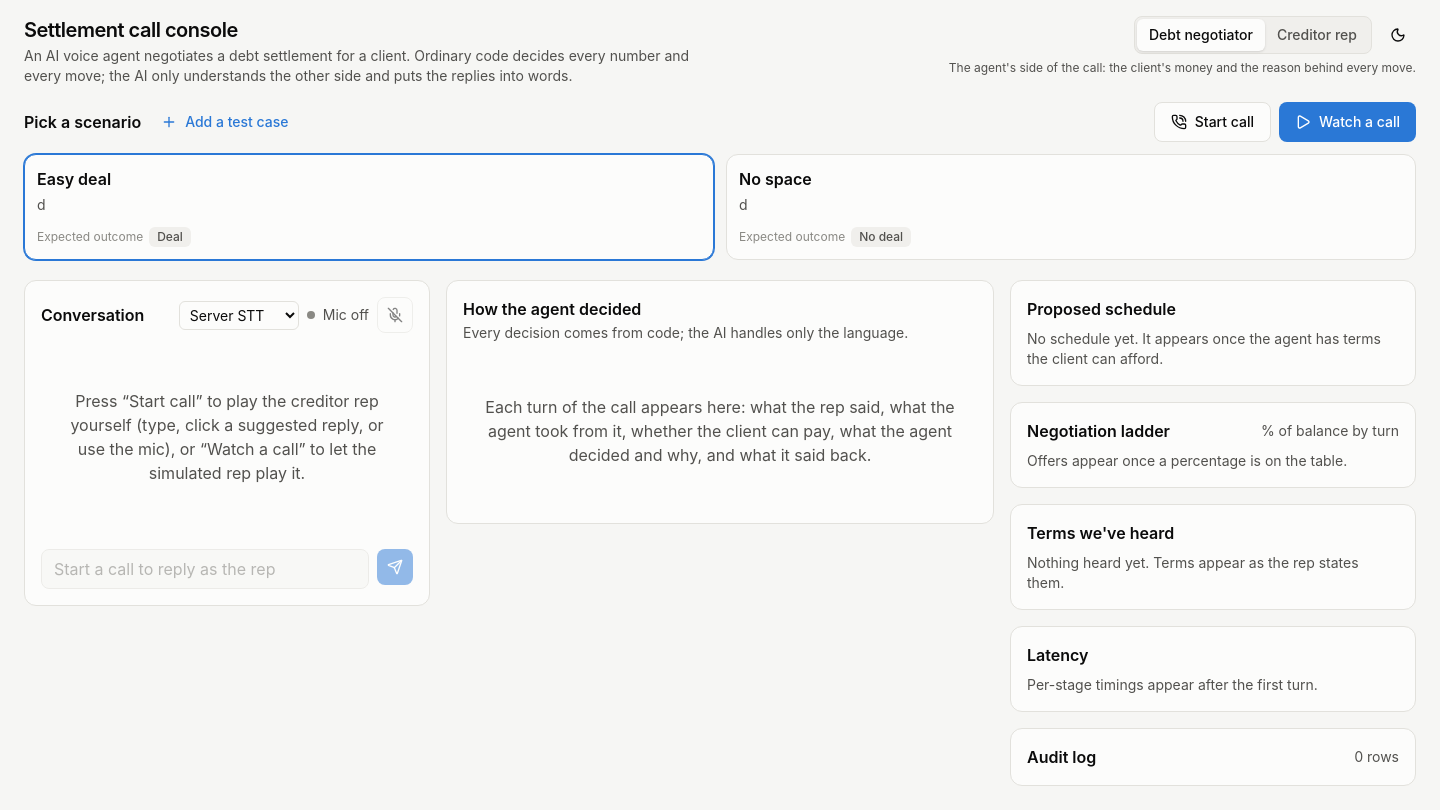
Test: LiveApp custom test cases › shows the rep's account for a custom case from the rep-safe preview
This screenshot has width=1440, height=810.
Expected: the button "No space d Expected outcome No deal" is shown, [726,154,1416,260]
What coordinates should you click on to do the following:
click the button "Add a test case"
I would click on:
 (225, 122)
Its box is [149,106,300,138].
(page scrolled)
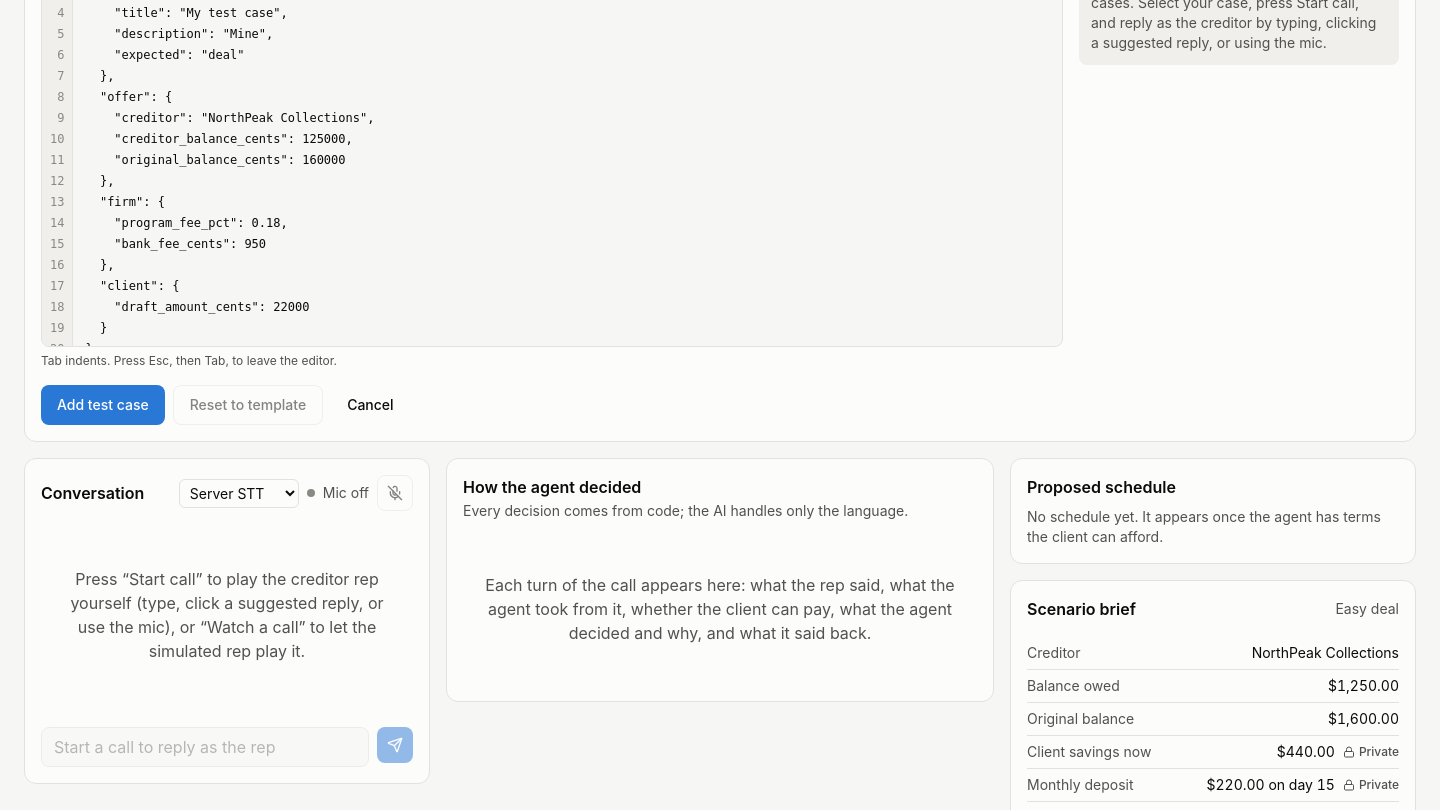
What coordinates should you click on to do the following:
click the button "Add test case"
I would click on:
 (103, 405)
Its box is [41,385,165,425].
(page scrolled)
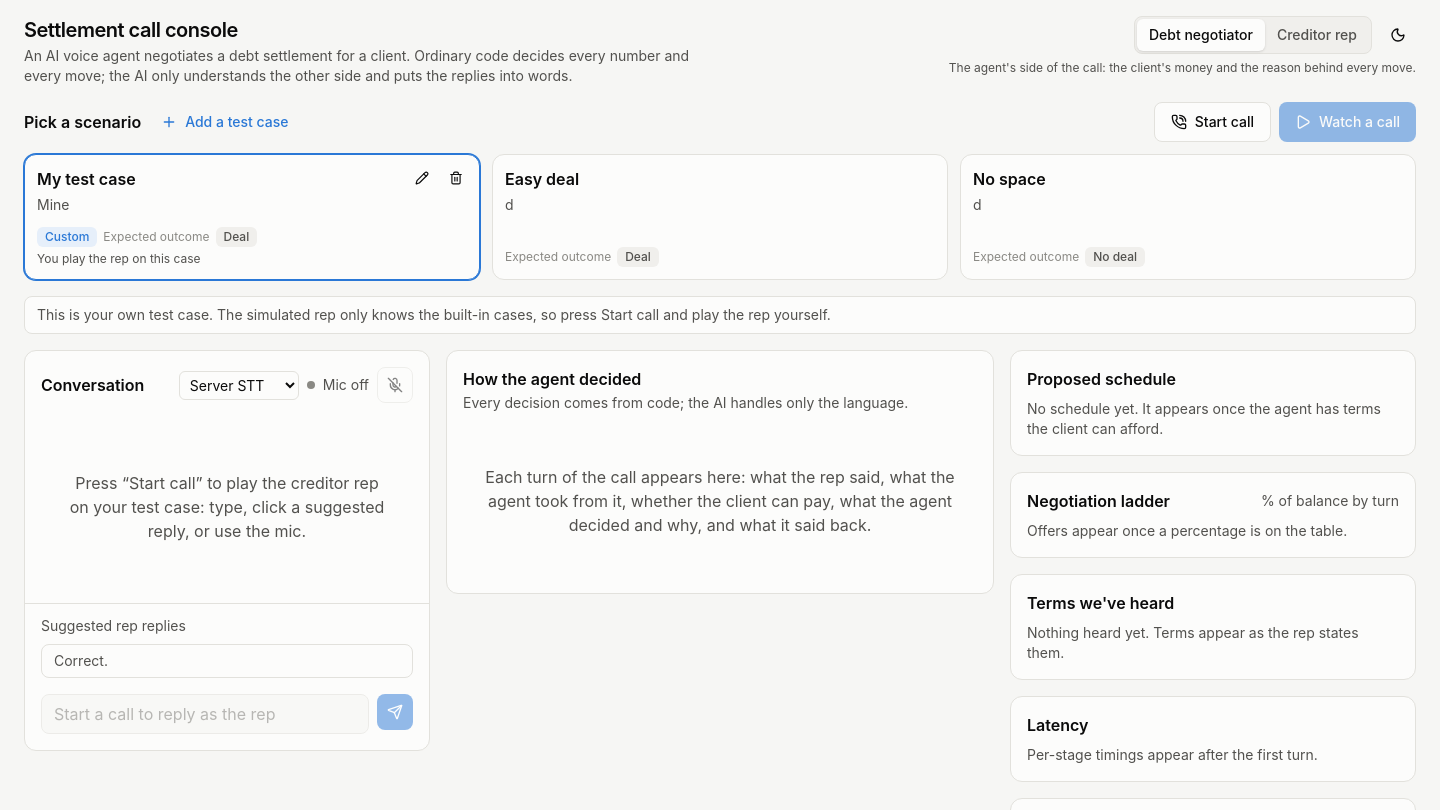
Expected: the button "My test case" is shown, [24,154,480,280]
What coordinates should you click on to do the following:
click the radio button labelled "Creditor rep"
I would click on:
 (1317, 35)
Its box is [1265,19,1369,51].
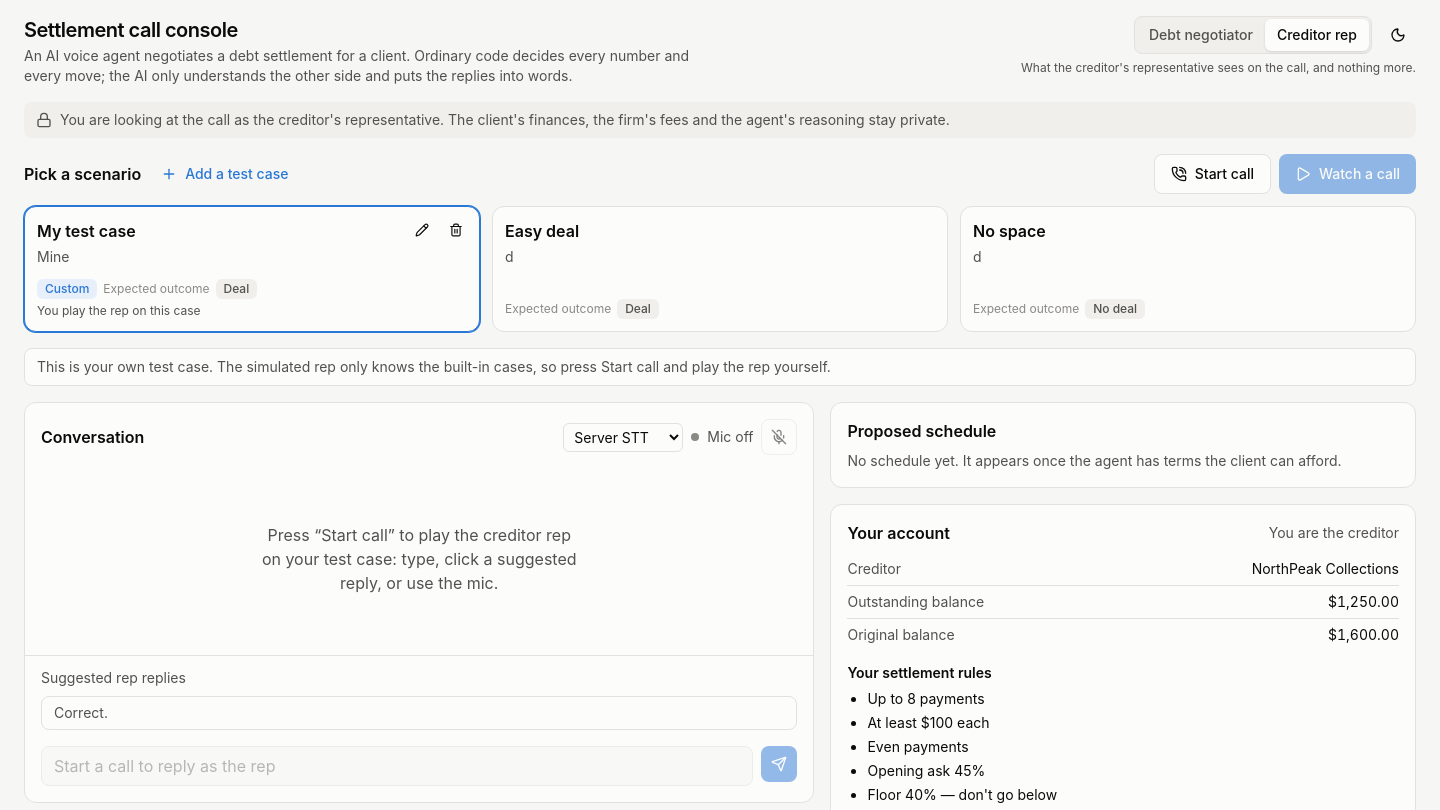
Expected: the list item "Up to 8 payments" is shown, [868,690,985,707]
